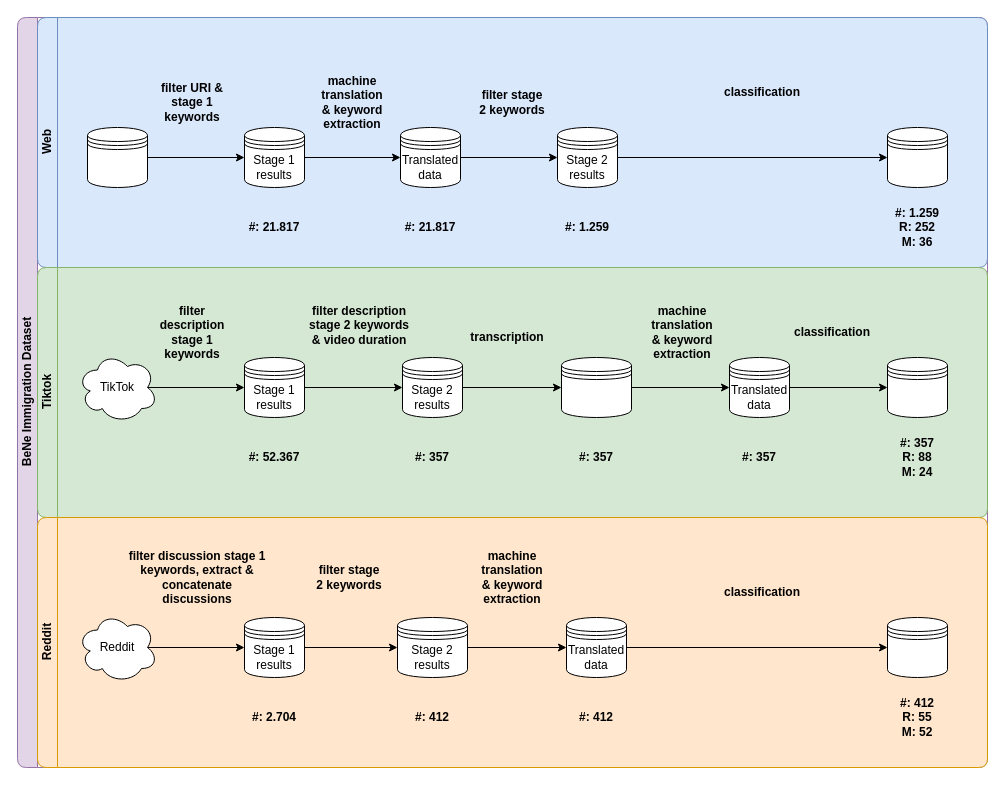
This 1005x785 diagram has some shape labels left out. Each missing label, with the box of its shape:
Common Crawl: (86, 126, 148, 188)
Reddit data: (886, 616, 948, 678)
TikTok data: (886, 356, 948, 418)
Transcribed data: (560, 356, 632, 418)
Web data: (886, 126, 948, 188)
